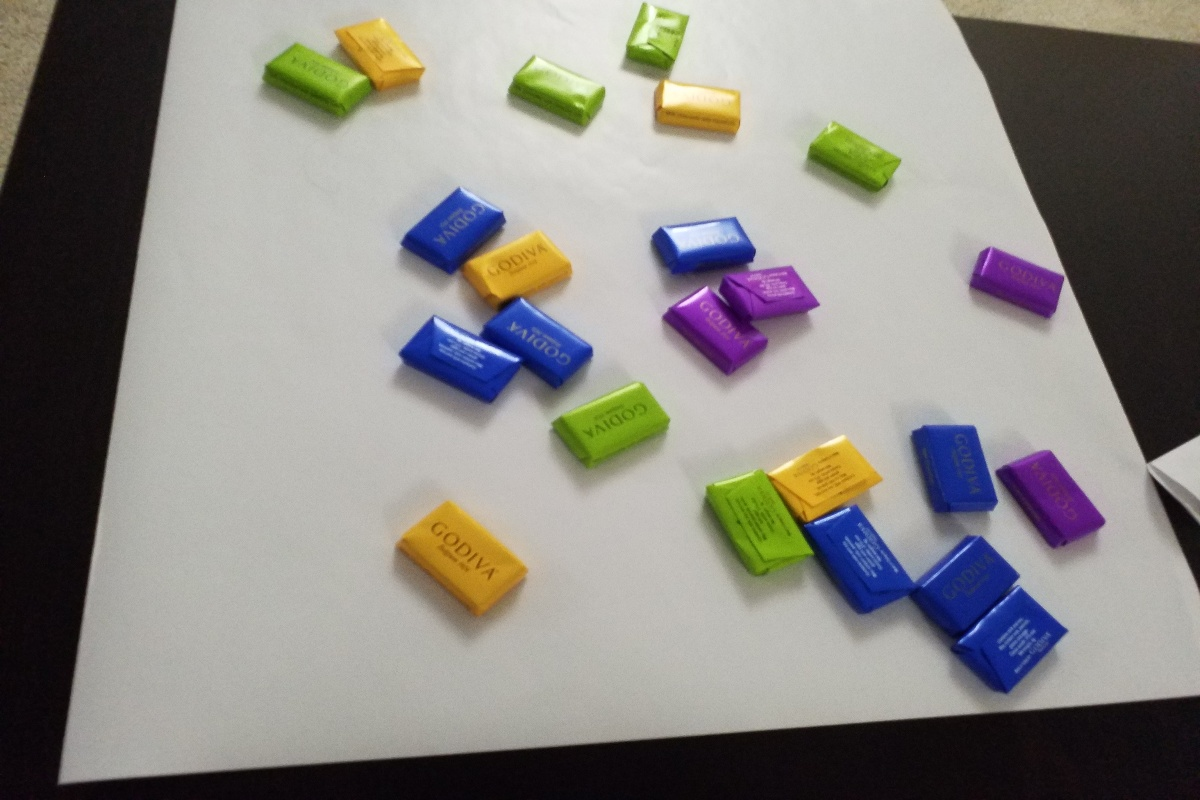chocolate_blue: (902, 410, 1003, 523), (392, 187, 505, 262), (645, 210, 760, 276)
chocolate_green: (700, 473, 817, 581), (544, 392, 675, 471), (801, 115, 913, 203), (503, 48, 609, 138)
chocolate_purple: (991, 447, 1118, 551), (658, 290, 772, 382), (962, 239, 1073, 331)
chocolate_yellow: (385, 493, 535, 619)
